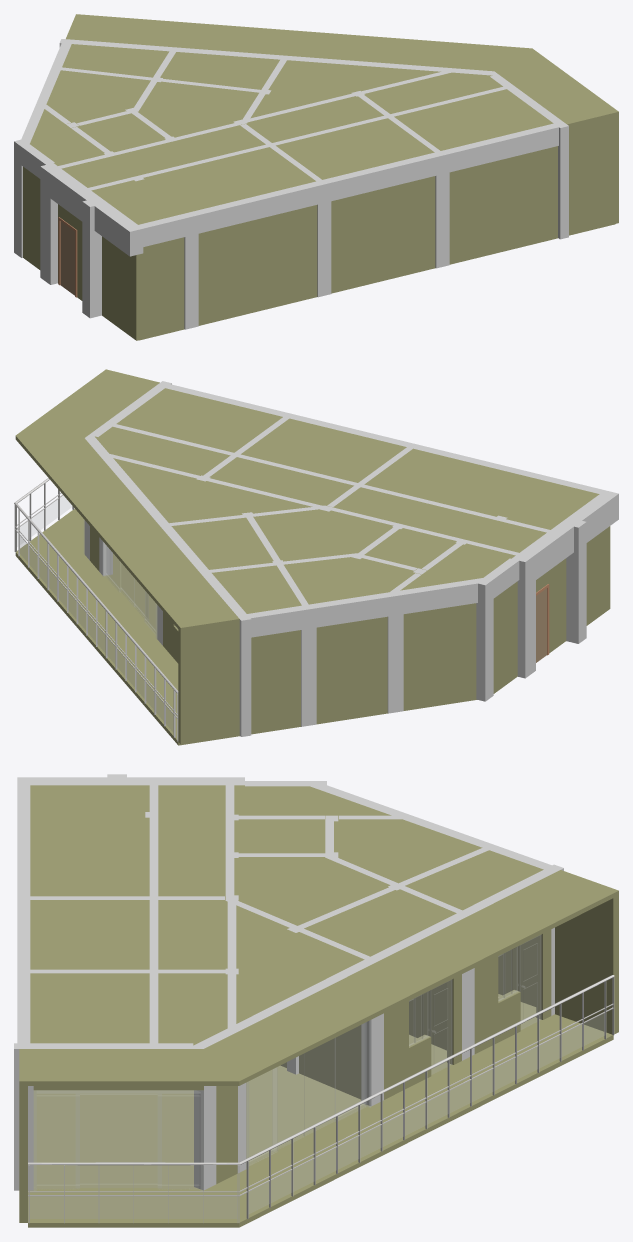
3 views of the same model, one above another, from view 1: azimuth 30°, elevation 25°; view 2: azimuth 150°, elevation 25°; view 3: azimuth 270°, elevation 25° (orthographic). The views are drawn at different scales.
Parts seen in each view (by area): view 1: product-46080ec0-19da-4382-820b-81dcc9dce807-body, product-46080ec0-19da-4382-820b-81dcc9dce83d-body, product-46080ec0-19da-4382-820b-81dcc9dce8ba-body, product-46080ec0-19da-4382-820b-81dcc9dce83e-body, product-46080ec0-19da-4382-820b-81dcc9dce803-body, product-46080ec0-19da-4382-820b-81dcc9dce83f-body, product-46080ec0-19da-4382-820b-81dcc9dce892-body, product-46080ec0-19da-4382-820b-81dcc9dce89e-body, product-46080ec0-19da-4382-820b-81dcc9dce890-body, product-46080ec0-19da-4382-820b-81dcc9dce86f-body, product-46080ec0-19da-4382-820b-81dcc9dce8be-body, product-46080ec0-19da-4382-820b-81dcc9dce8bc-body (+19 smaller); view 2: product-46080ec0-19da-4382-820b-81dcc9dce807-body, product-46080ec0-19da-4382-820b-81dcc9dce832-body, product-46080ec0-19da-4382-820b-81dcc9dce804-body, product-46080ec0-19da-4382-820b-81dcc9dce8b9-body, product-46080ec0-19da-4382-820b-81dcc9dce820-body, product-46080ec0-19da-4382-820b-81dcc9dce81f-body, product-46080ec0-19da-4382-820b-81dcc9dce82f-body, product-46080ec0-19da-4382-820b-81dcc9dce8b8-body, product-46080ec0-19da-4382-820b-81dcc9dce8be-body, product-46080ec0-19da-4382-820b-81dcc9dce8bc-body, product-46080ec0-19da-4382-820b-81dcc9dce880-body, product-46080ec0-19da-4382-820b-81dcc9dce882-body (+22 smaller); view 3: product-46080ec0-19da-4382-820b-81dcc9dce807-body, product-46080ec0-19da-4382-820b-81dcc9dce832-body, product-46080ec0-19da-4382-820b-81dcc9dce81f-body, product-46080ec0-19da-4382-820b-81dcc9dce80e-body, product-46080ec0-19da-4382-820b-81dcc9dce80d-body, product-46080ec0-19da-4382-820b-81dcc9dce804-body, product-46080ec0-19da-4382-820b-81dcc9dce825-body, product-46080ec0-19da-4382-820b-81dcc9dce83a-body, product-46080ec0-19da-4382-820b-81dcc9dce839-body, product-46080ec0-19da-4382-820b-81dcc9dce80f-body, product-46080ec0-19da-4382-820b-81dcc9dce800-body, product-46080ec0-19da-4382-820b-81dcc9dce8b6-body (+24 smaller).
Part boxes in pixels (x1,y1,x2,y2): product-46080ec0-19da-4382-820b-81dcc9dce807-body: (30, 14, 614, 224); product-46080ec0-19da-4382-820b-81dcc9dce83d-body: (198, 205, 317, 325); product-46080ec0-19da-4382-820b-81dcc9dce8ba-body: (449, 146, 557, 264); product-46080ec0-19da-4382-820b-81dcc9dce83e-body: (331, 176, 435, 293); product-46080ec0-19da-4382-820b-81dcc9dce803-body: (564, 109, 618, 235); product-46080ec0-19da-4382-820b-81dcc9dce83f-body: (133, 237, 184, 340); product-46080ec0-19da-4382-820b-81dcc9dce892-body: (194, 182, 317, 233); product-46080ec0-19da-4382-820b-81dcc9dce89e-body: (445, 123, 558, 172); product-46080ec0-19da-4382-820b-81dcc9dce890-body: (326, 153, 436, 201); product-46080ec0-19da-4382-820b-81dcc9dce86f-body: (102, 236, 132, 337); product-46080ec0-19da-4382-820b-81dcc9dce8be-body: (82, 197, 107, 318); product-46080ec0-19da-4382-820b-81dcc9dce8bc-body: (40, 163, 63, 284); product-46080ec0-19da-4382-820b-81dcc9dce807-body: (15, 372, 599, 628); product-46080ec0-19da-4382-820b-81dcc9dce832-body: (15, 508, 477, 745); product-46080ec0-19da-4382-820b-81dcc9dce804-body: (178, 616, 239, 744); product-46080ec0-19da-4382-820b-81dcc9dce8b9-body: (403, 603, 476, 710); product-46080ec0-19da-4382-820b-81dcc9dce820-body: (316, 616, 387, 723); product-46080ec0-19da-4382-820b-81dcc9dce81f-body: (14, 478, 178, 741); product-46080ec0-19da-4382-820b-81dcc9dce82f-body: (251, 630, 300, 733); product-46080ec0-19da-4382-820b-81dcc9dce8b8-body: (493, 581, 517, 693); product-46080ec0-19da-4382-820b-81dcc9dce8be-body: (560, 517, 586, 643); product-46080ec0-19da-4382-820b-81dcc9dce8bc-body: (512, 551, 535, 678); product-46080ec0-19da-4382-820b-81dcc9dce880-body: (476, 577, 493, 701); product-46080ec0-19da-4382-820b-81dcc9dce882-body: (385, 590, 403, 713); product-46080ec0-19da-4382-820b-81dcc9dce807-body: (28, 785, 613, 1085); product-46080ec0-19da-4382-820b-81dcc9dce832-body: (28, 994, 613, 1227); product-46080ec0-19da-4382-820b-81dcc9dce81f-body: (28, 975, 614, 1223); product-46080ec0-19da-4382-820b-81dcc9dce80e-body: (33, 1090, 203, 1190); product-46080ec0-19da-4382-820b-81dcc9dce80d-body: (246, 1020, 371, 1166); product-46080ec0-19da-4382-820b-81dcc9dce804-body: (555, 870, 618, 1034); product-46080ec0-19da-4382-820b-81dcc9dce825-body: (474, 929, 551, 1053); product-46080ec0-19da-4382-820b-81dcc9dce83a-body: (384, 974, 461, 1099); product-46080ec0-19da-4382-820b-81dcc9dce839-body: (299, 1025, 361, 1099); product-46080ec0-19da-4382-820b-81dcc9dce80f-body: (409, 979, 452, 1074); product-46080ec0-19da-4382-820b-81dcc9dce800-body: (498, 934, 541, 1029); product-46080ec0-19da-4382-820b-81dcc9dce8b6-body: (194, 1039, 216, 1190).
Size of the model in its own units: 16.77 by 3.72 by 13.94.
